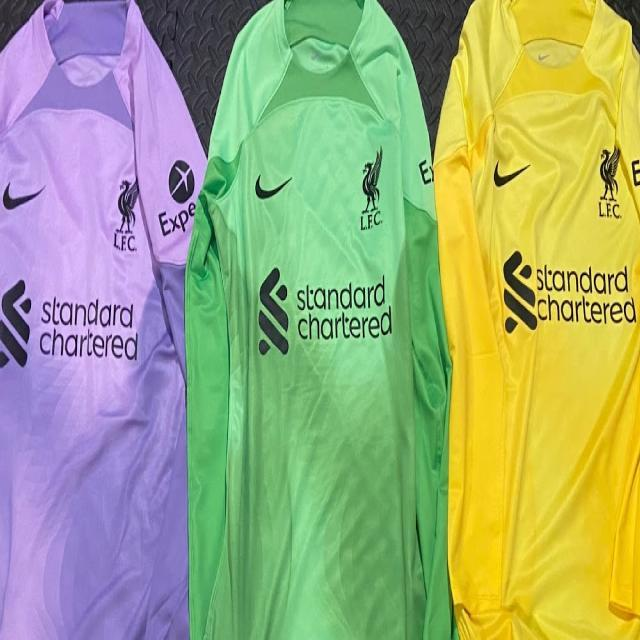Nike: (3, 181, 46, 210), (493, 156, 532, 186), (254, 170, 292, 199)
Standard Chartered: (256, 267, 392, 364), (0, 280, 138, 371), (501, 247, 640, 332)
